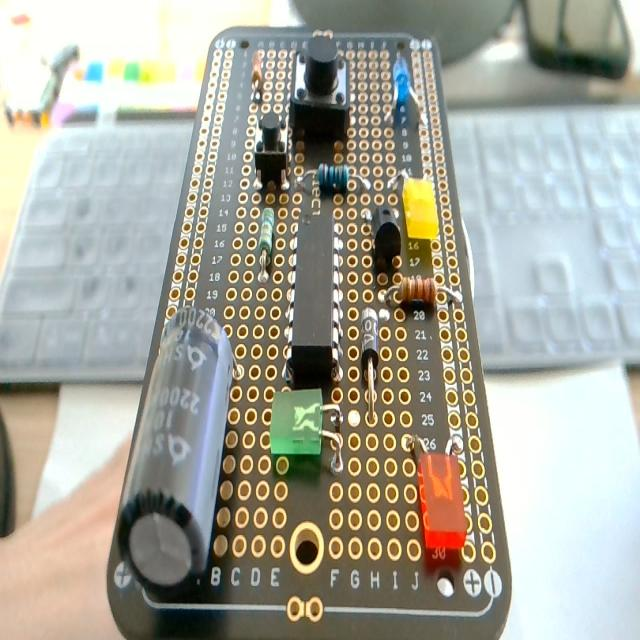Electrolytic capacitor: (118, 306, 238, 593)
IC: (282, 228, 343, 396)
diode: (360, 306, 380, 426)
led: (262, 389, 346, 479), (411, 432, 468, 552), (402, 175, 439, 242), (387, 52, 421, 124)
resistor: (382, 278, 461, 313), (296, 164, 369, 194), (256, 206, 276, 286), (251, 51, 263, 96)
switch: (291, 38, 350, 138), (254, 110, 286, 188)
transistor: (371, 203, 400, 273)
